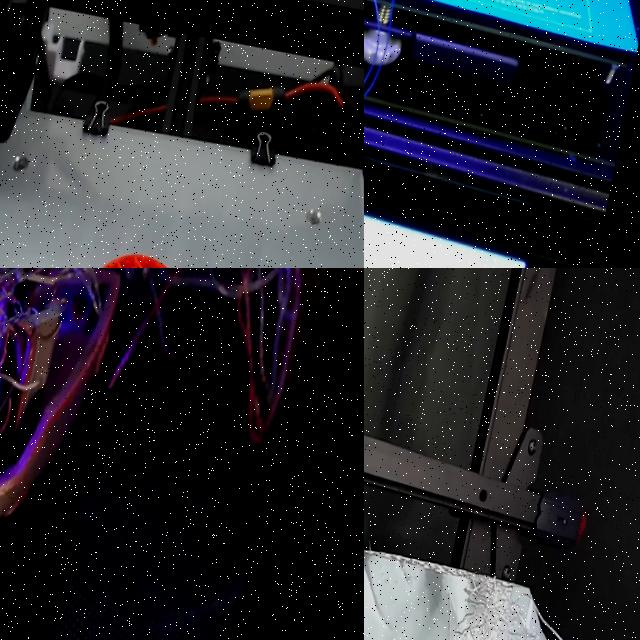spaghetti: (384, 557, 622, 640)
